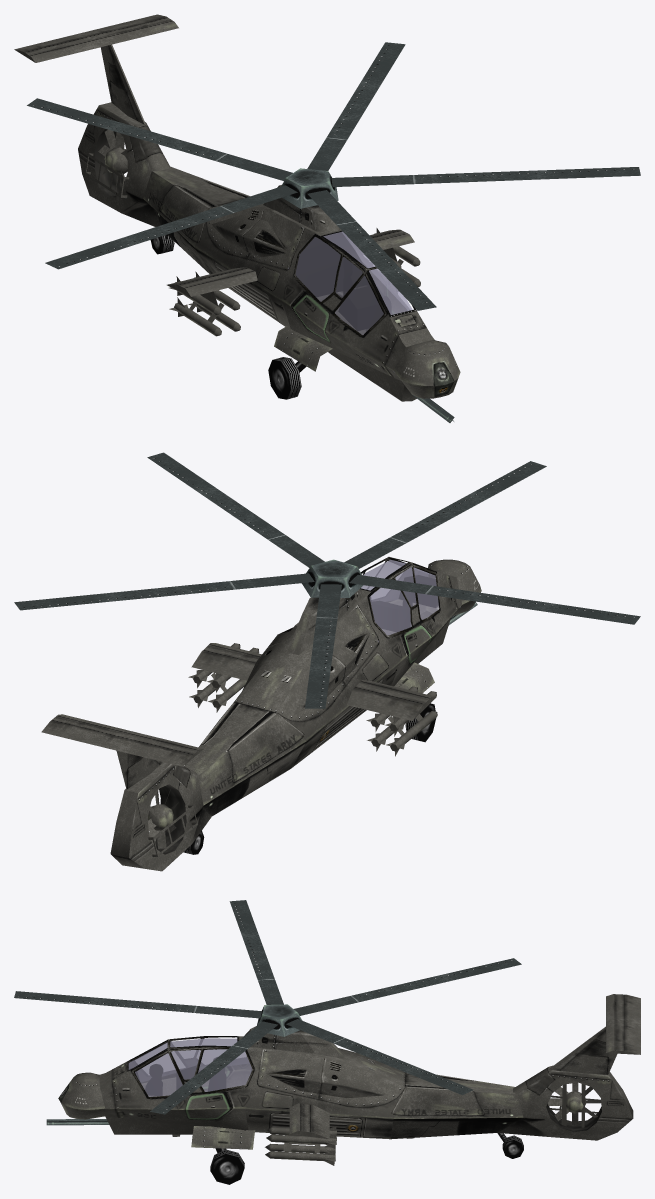
Rendered from commanche.FBX.
3 renders of one model, top to bottom at view 1: azimuth 30°, elevation 25°; view 2: azimuth 150°, elevation 25°; view 3: azimuth 270°, elevation 25°, orthographic. The views are drawn at different scales.
Visible parts, largest first — view 1: Cylinder01; view 2: Cylinder01; view 3: Cylinder01.
Part boxes in pixels (x1,y1,x2,y2): Cylinder01: (14, 14, 640, 422); Cylinder01: (14, 452, 640, 871); Cylinder01: (14, 900, 640, 1184).
Size of the model in its own units: 133 by 42.86 by 164.
Materials: 2 (1 with a texture image).
